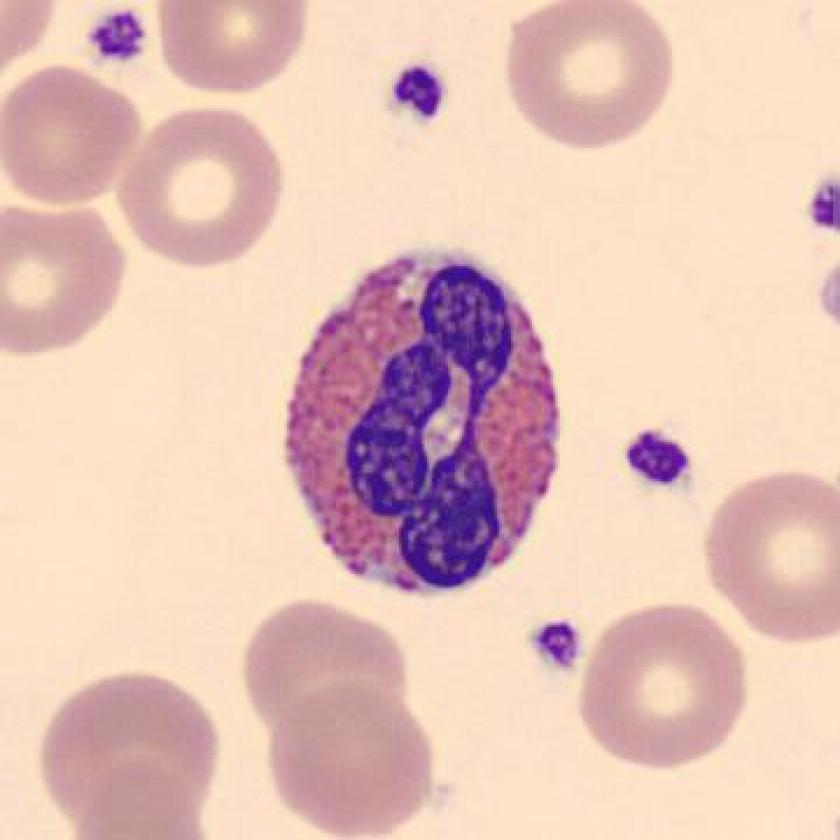eosinophil: (267, 242, 573, 610)
